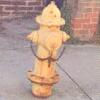a fire hydrant: (29, 2, 71, 97)
